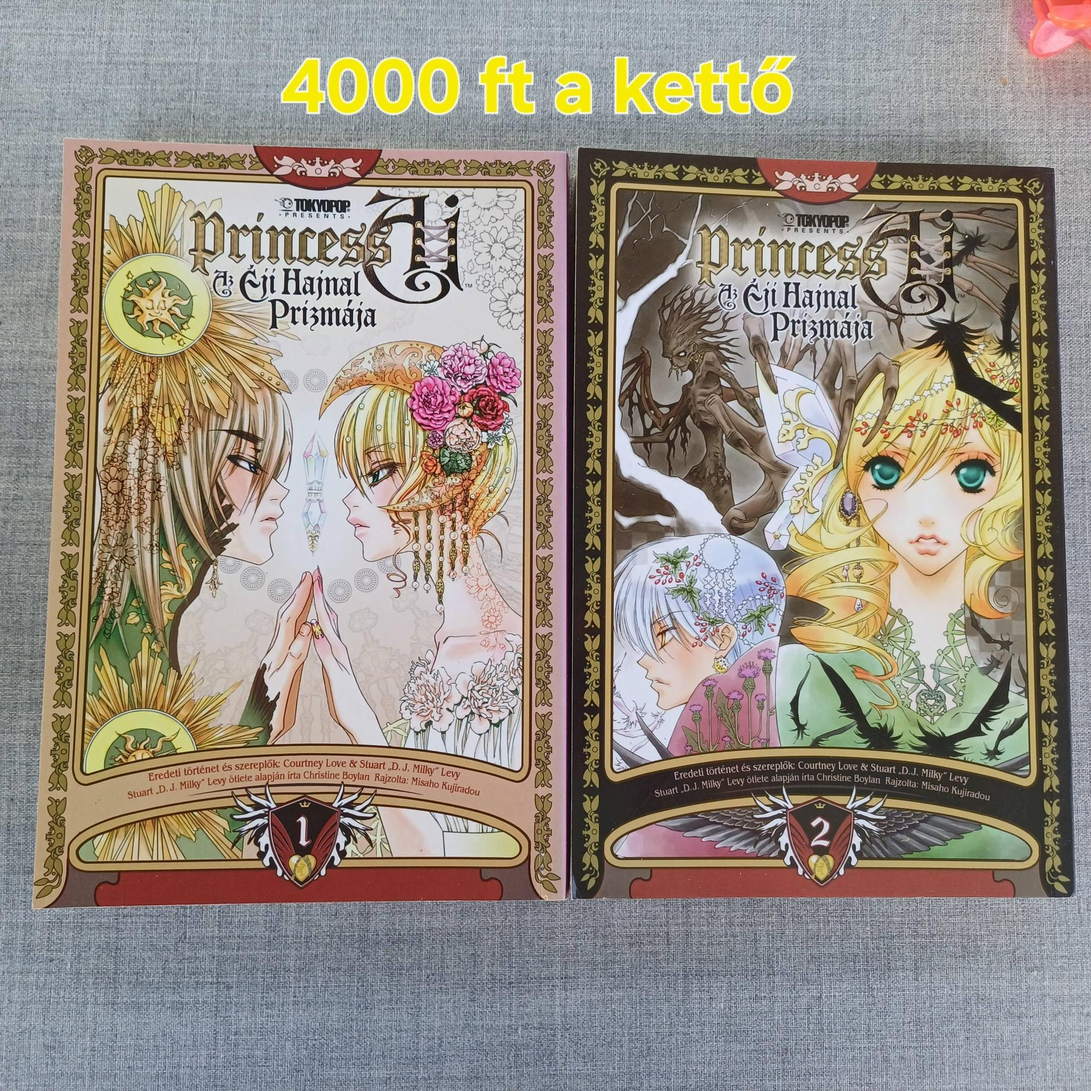comic: (34, 141, 575, 912), (571, 151, 1071, 896)
